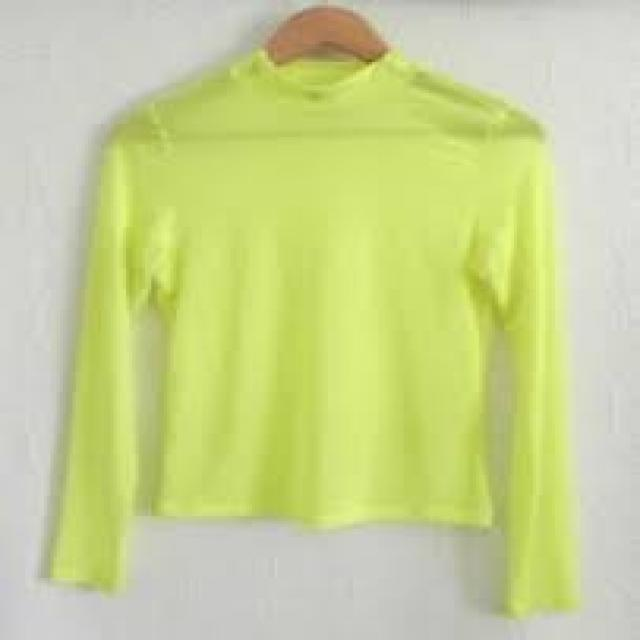plain: (68, 55, 575, 534)
